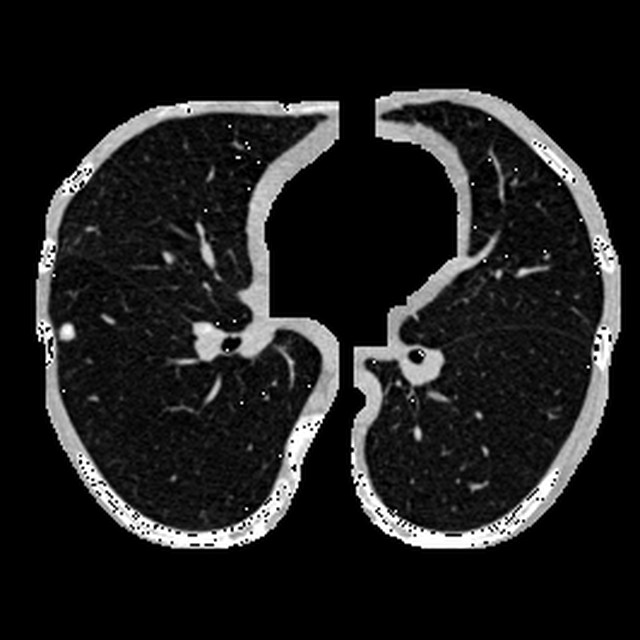PN: (58, 320, 77, 339)
